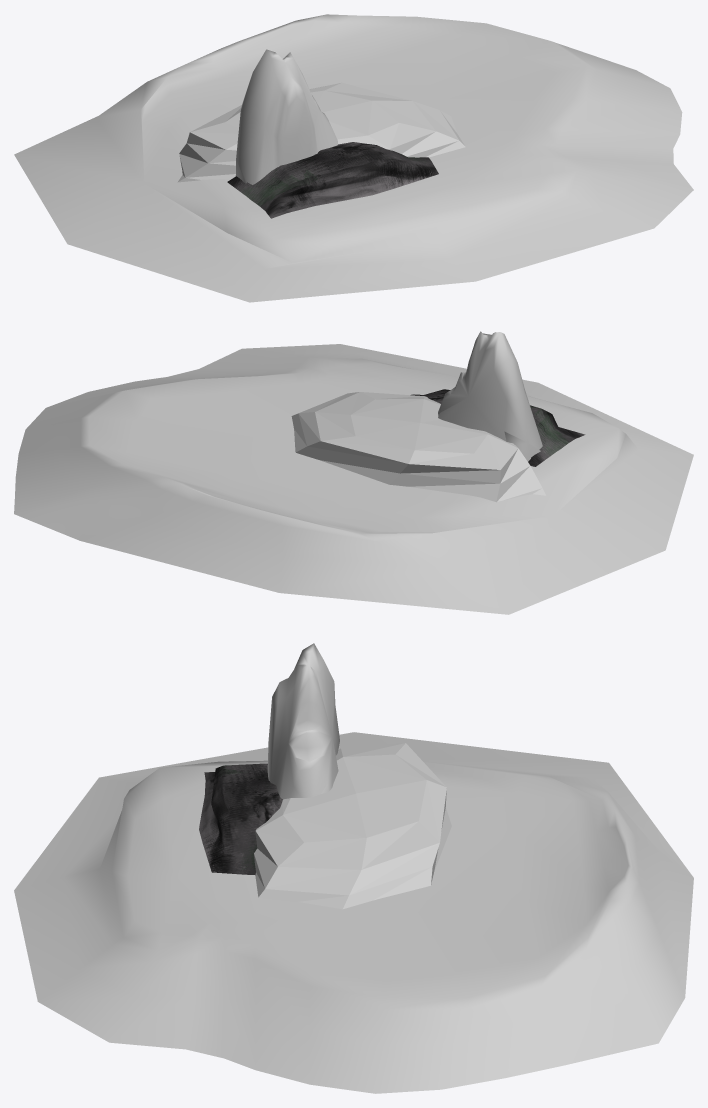
Rendered from Rock.fbx.
3 views of the same model, one above another, from view 1: azimuth 30°, elevation 25°; view 2: azimuth 150°, elevation 25°; view 3: azimuth 270°, elevation 25° (orthographic). The views are drawn at different scales.
Visible parts, largest first — view 1: rock_Base1, rock_B1, rock_C1, rock_A1; view 2: rock_Base1, rock_B1, rock_C1, rock_A1; view 3: rock_Base1, rock_B1, rock_C1, rock_A1.
Boxes of the visible parts, left/top/right/bottom form: rock_Base1: left=14, top=14, right=693, bottom=302; rock_B1: left=177, top=82, right=465, bottom=182; rock_C1: left=235, top=49, right=337, bottom=184; rock_A1: left=227, top=142, right=438, bottom=218; rock_Base1: left=14, top=344, right=693, bottom=614; rock_B1: left=291, top=392, right=545, bottom=502; rock_C1: left=438, top=331, right=542, bottom=461; rock_A1: left=410, top=389, right=585, bottom=466; rock_Base1: left=14, top=732, right=693, bottom=1093; rock_B1: left=254, top=743, right=451, bottom=909; rock_C1: left=267, top=643, right=339, bottom=799; rock_A1: left=199, top=763, right=282, bottom=874.
Bounding box in the file's own units: 1624 × 412 × 1290.
